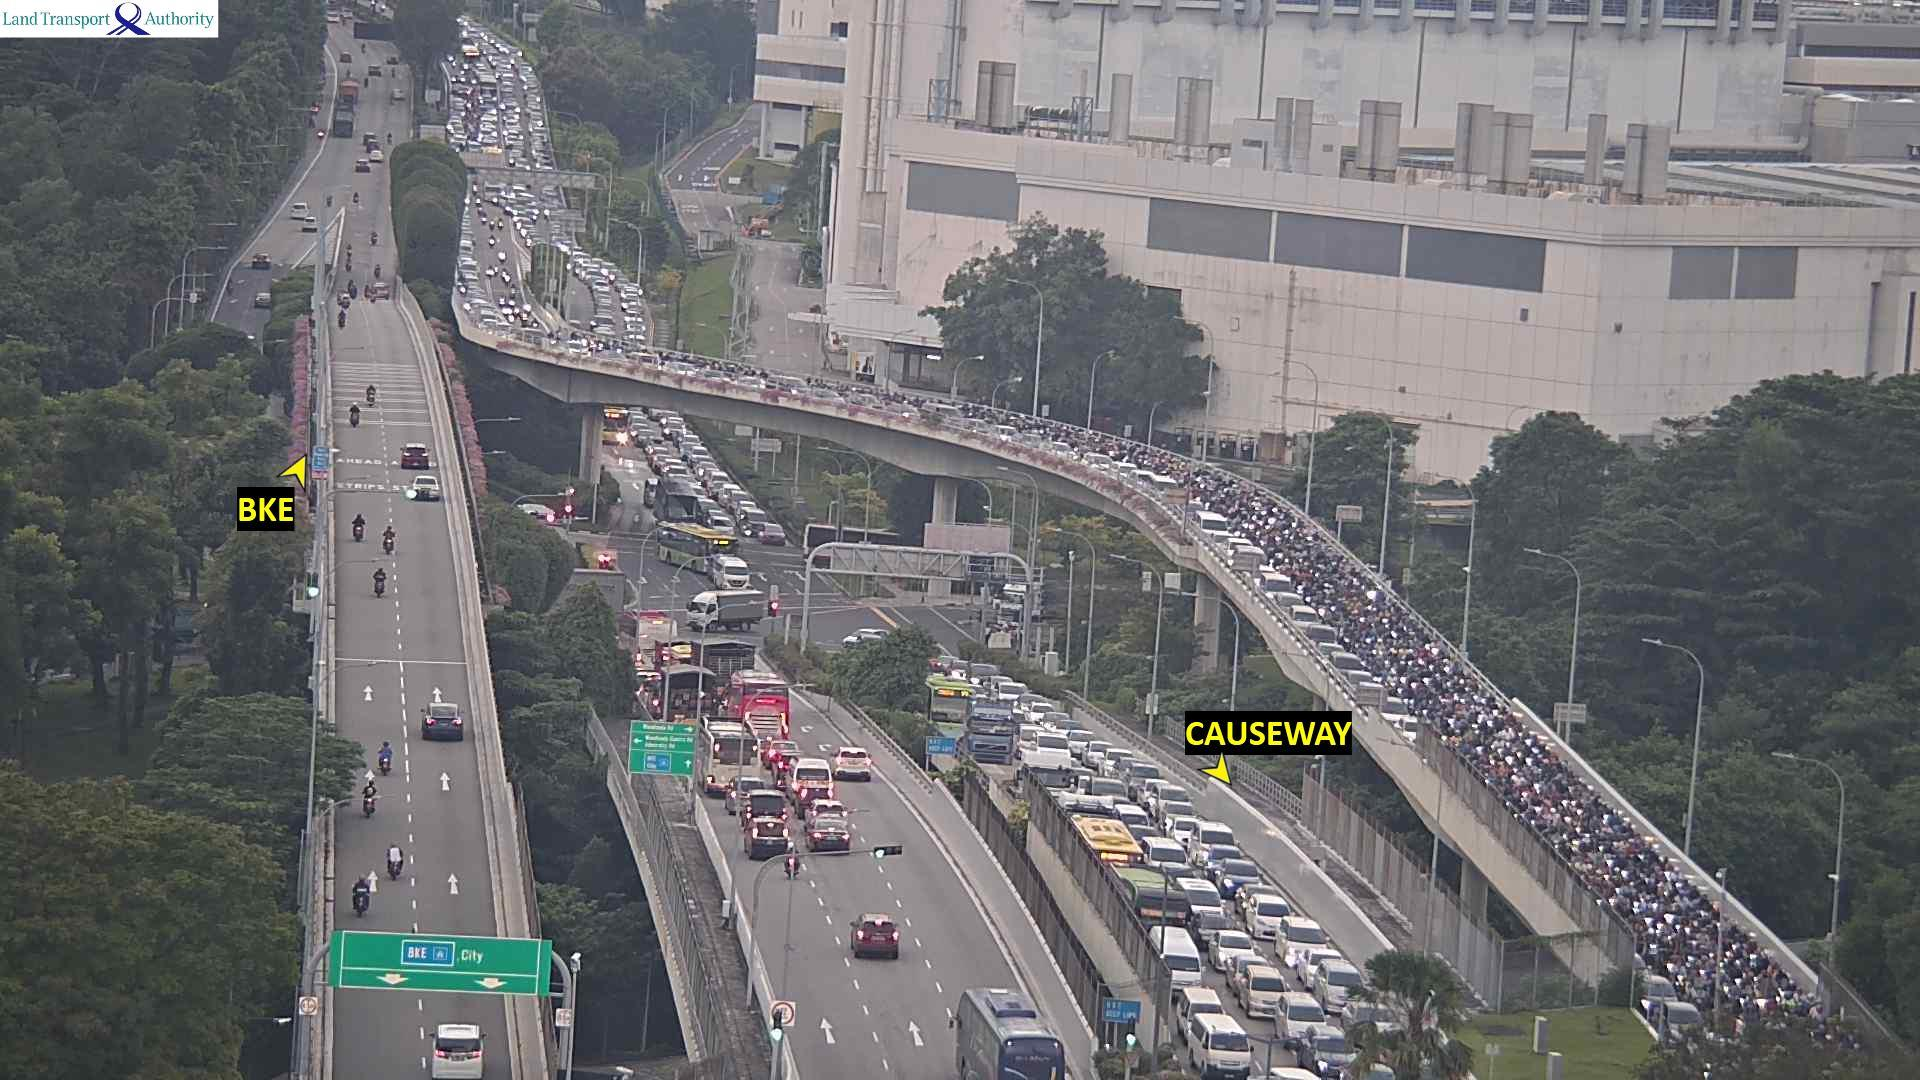vehicle-causeway-johor: (1110, 868, 1189, 922), (1153, 926, 1204, 986), (1065, 819, 1137, 857), (1270, 924, 1335, 965), (1189, 1019, 1251, 1056), (927, 680, 973, 729), (1313, 969, 1374, 1005), (1245, 897, 1299, 936), (1305, 1035, 1356, 1075), (960, 737, 1018, 770), (1309, 961, 1370, 992), (1275, 1007, 1331, 1040), (1241, 985, 1300, 1015), (1290, 945, 1346, 976), (1218, 862, 1273, 894), (1139, 837, 1192, 868), (1185, 825, 1234, 856), (1212, 935, 1255, 965), (1195, 837, 1241, 865), (1656, 1000, 1692, 1034), (1183, 906, 1226, 934), (1638, 973, 1669, 1009), (1179, 990, 1220, 1017), (1121, 765, 1166, 789), (1156, 807, 1192, 836), (1175, 874, 1220, 895), (1133, 471, 1175, 493), (1197, 510, 1228, 541), (1188, 518, 1228, 539), (1120, 463, 1154, 487), (766, 373, 807, 393), (1335, 653, 1364, 680), (811, 381, 841, 405), (1257, 576, 1290, 597), (741, 508, 769, 533), (1385, 696, 1410, 723), (1288, 605, 1316, 629), (721, 487, 749, 510), (1073, 745, 1106, 765), (694, 462, 724, 483), (1226, 539, 1253, 562), (733, 501, 761, 522), (1088, 454, 1117, 473), (654, 450, 687, 467), (887, 400, 918, 418), (650, 440, 679, 459), (1398, 719, 1418, 745), (632, 352, 662, 369), (847, 389, 874, 407), (761, 524, 785, 545), (709, 472, 731, 496), (700, 506, 724, 527), (1309, 625, 1336, 644), (1019, 431, 1046, 450), (638, 407, 658, 431), (1349, 671, 1374, 690), (657, 456, 682, 473), (574, 257, 593, 277), (699, 497, 719, 517), (1055, 443, 1079, 459), (583, 269, 607, 285), (709, 517, 731, 534), (454, 284, 480, 297), (566, 342, 591, 355), (662, 417, 684, 431), (517, 218, 542, 229), (691, 450, 707, 467), (459, 256, 479, 269), (462, 311, 495, 319), (526, 233, 546, 247), (669, 465, 688, 479), (451, 273, 479, 282), (628, 323, 649, 335), (458, 301, 484, 310), (625, 301, 644, 314), (667, 429, 687, 440), (589, 319, 611, 330), (460, 236, 475, 251), (458, 256, 471, 272), (595, 309, 615, 319), (613, 280, 633, 290), (502, 328, 525, 338), (996, 426, 1013, 438), (592, 294, 609, 306), (624, 313, 641, 324), (480, 322, 505, 330), (601, 262, 616, 276), (683, 436, 698, 448), (526, 331, 543, 340), (625, 287, 637, 301), (592, 282, 607, 293), (609, 269, 624, 280), (601, 262, 615, 273), (497, 249, 506, 262), (485, 265, 493, 278), (488, 235, 495, 248), (498, 216, 505, 229), (502, 309, 513, 316), (489, 219, 495, 232), (480, 214, 487, 224), (500, 294, 505, 306), (505, 274, 512, 284), (508, 299, 514, 307), (524, 303, 531, 310), (501, 269, 506, 278), (510, 285, 516, 294)
vehicle-causeway-singapore: (967, 996, 1073, 1080), (647, 671, 729, 707), (700, 642, 770, 676), (847, 915, 901, 955), (427, 1027, 489, 1062), (705, 733, 769, 766), (745, 803, 800, 840), (789, 762, 847, 795), (738, 795, 802, 823), (808, 827, 861, 853), (737, 709, 793, 733), (695, 733, 749, 756), (749, 833, 787, 860), (422, 720, 460, 741), (725, 778, 771, 795), (764, 753, 795, 777), (404, 450, 427, 473), (411, 487, 444, 501), (361, 889, 378, 915), (372, 567, 385, 595), (381, 740, 392, 773), (392, 862, 405, 884), (355, 404, 369, 421), (385, 526, 394, 553), (361, 794, 372, 815), (345, 407, 355, 430), (360, 513, 372, 529), (364, 386, 372, 405)
